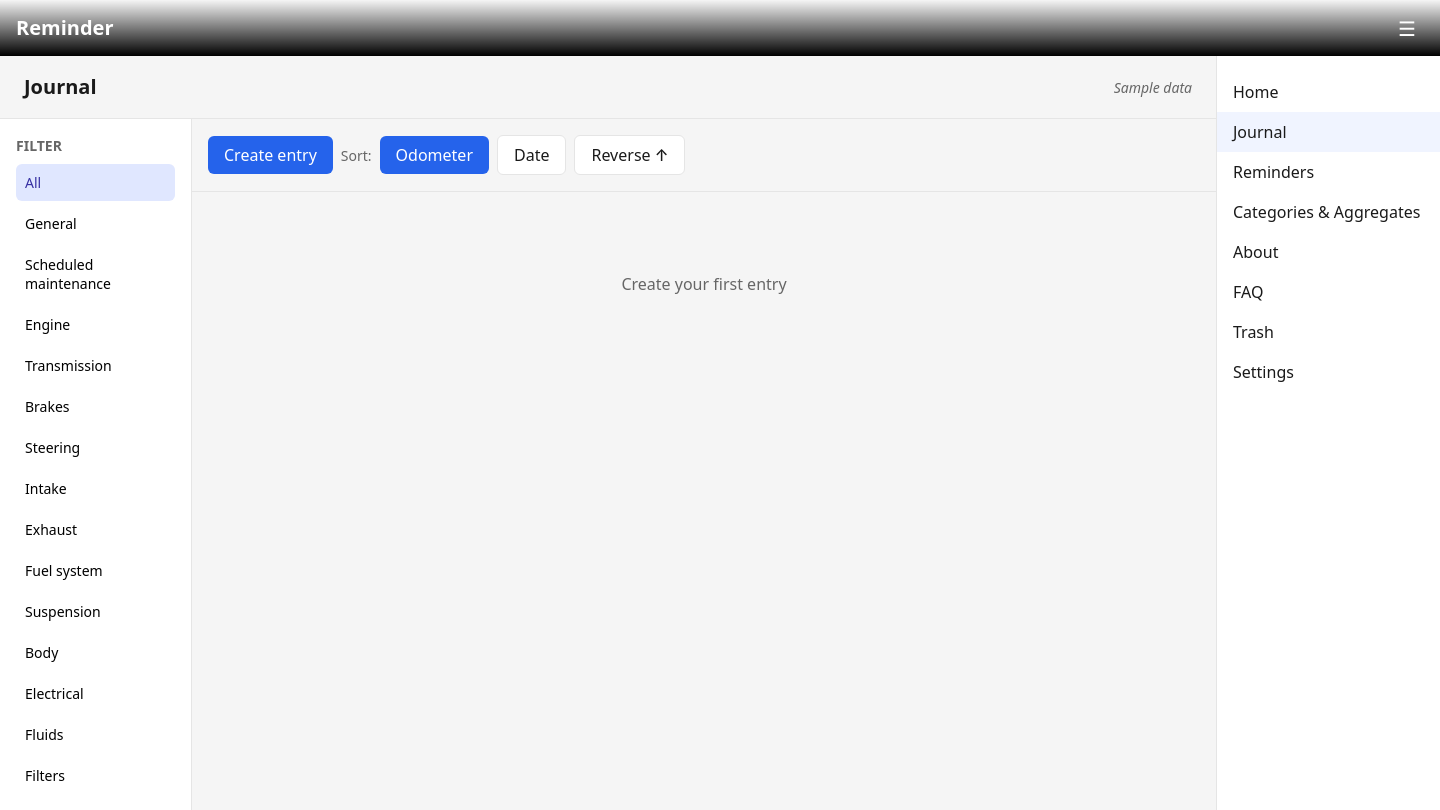
Test: validation on save › rejects zero works
Click the button "Create entry" at coordinates (270, 155), box [208,136,333,174]
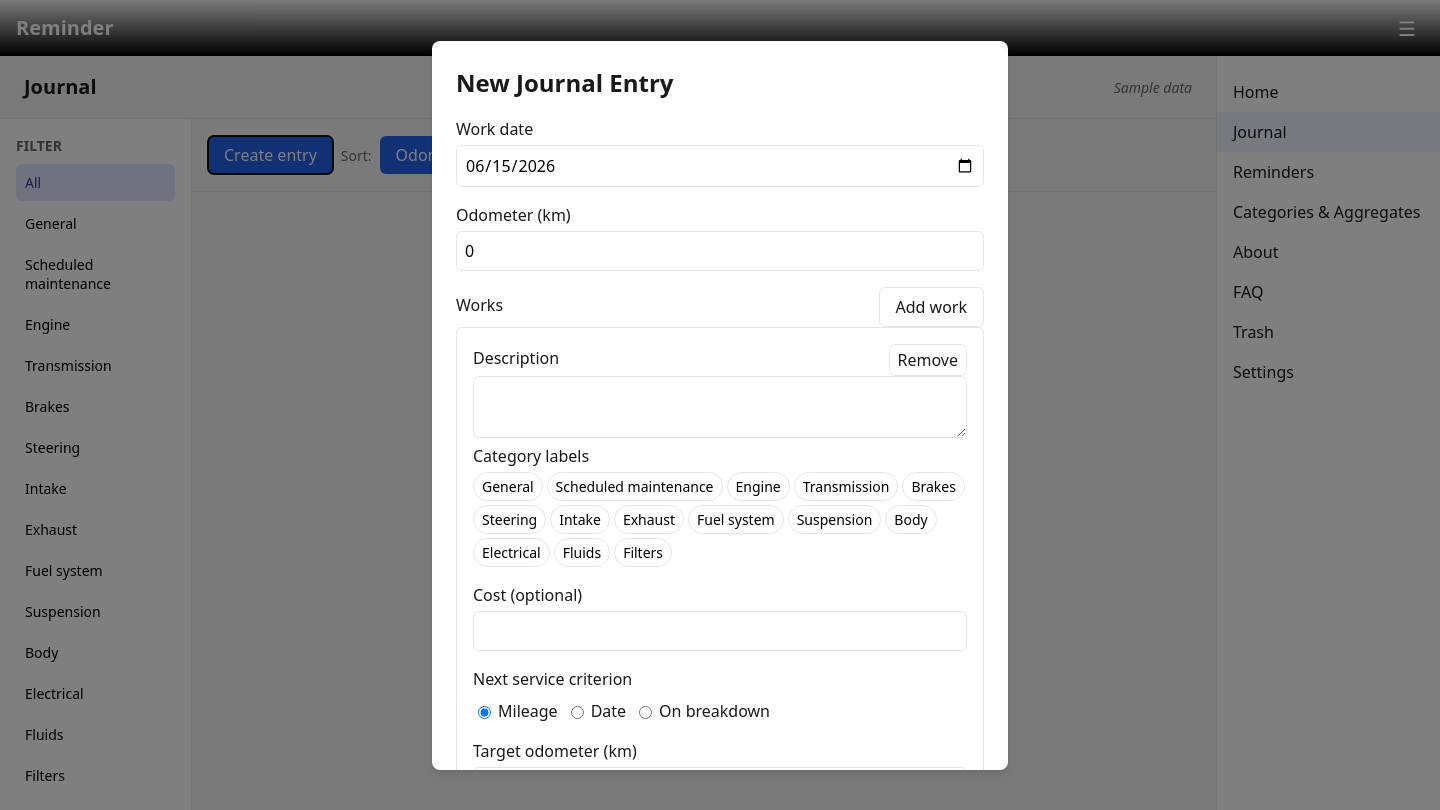
Click the button "Remove" at coordinates (928, 360), box [888,344,967,376]
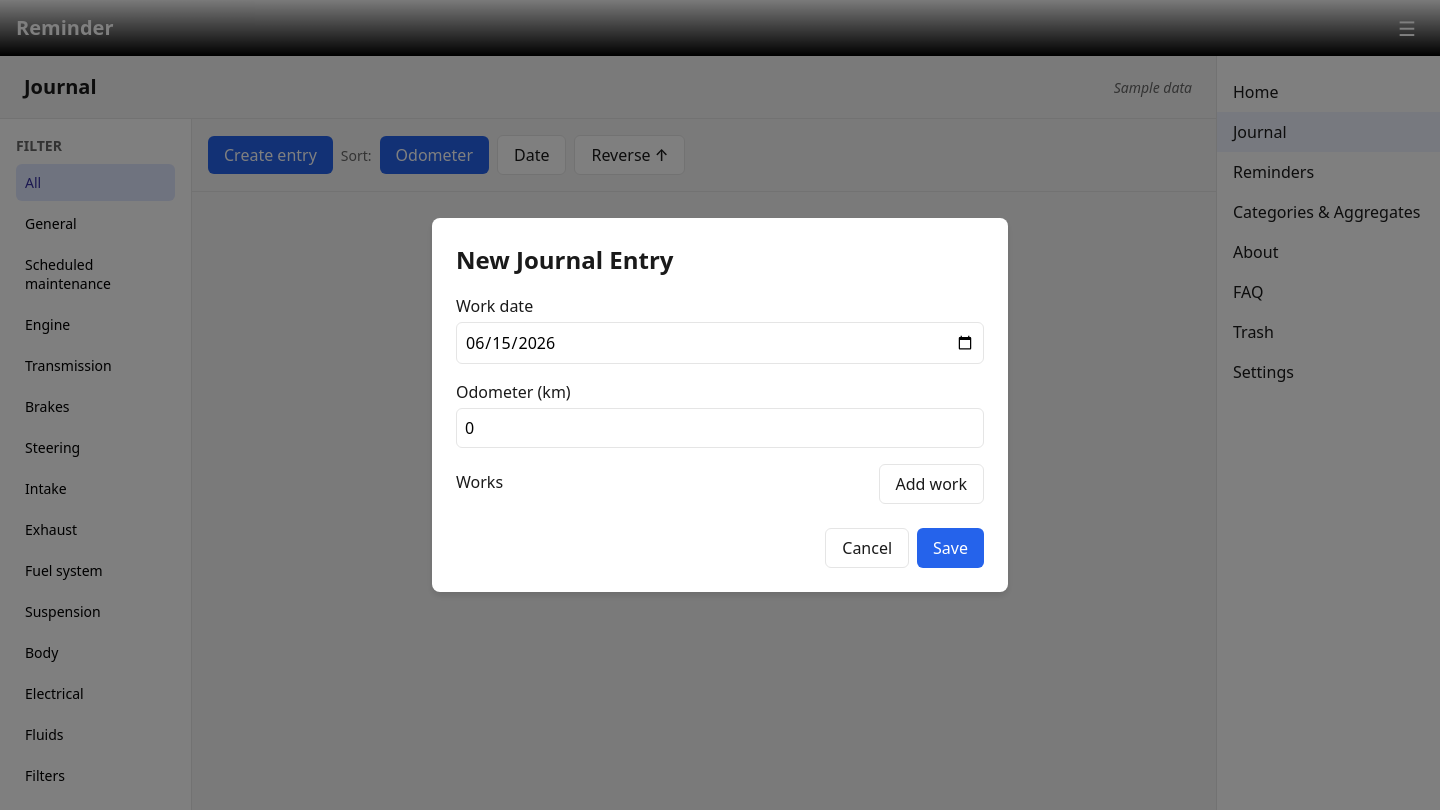
Click the button "Save" at coordinates (951, 548), box [917,528,984,568]
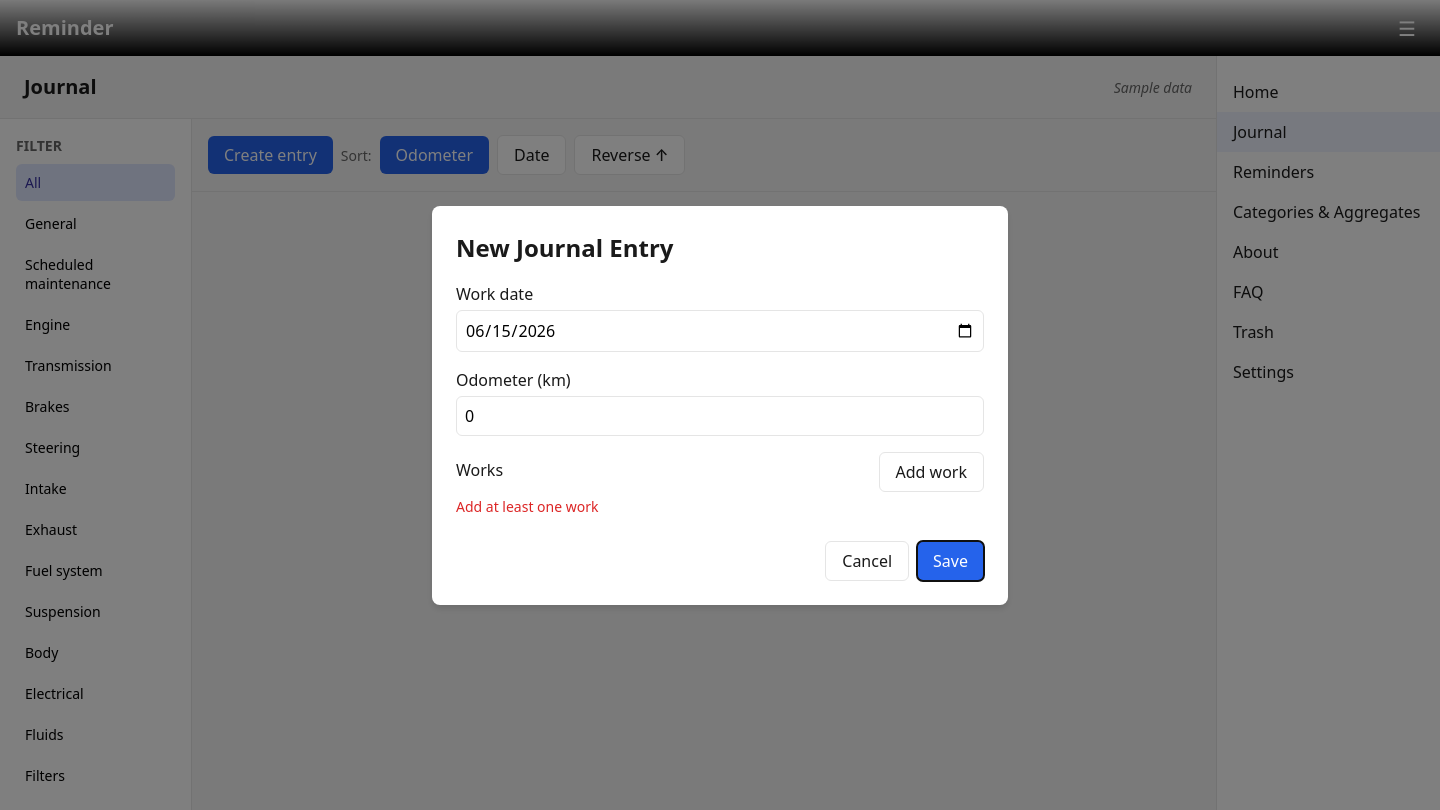
expect the text "Add at least one work" is shown: met, box [456,496,598,516]
